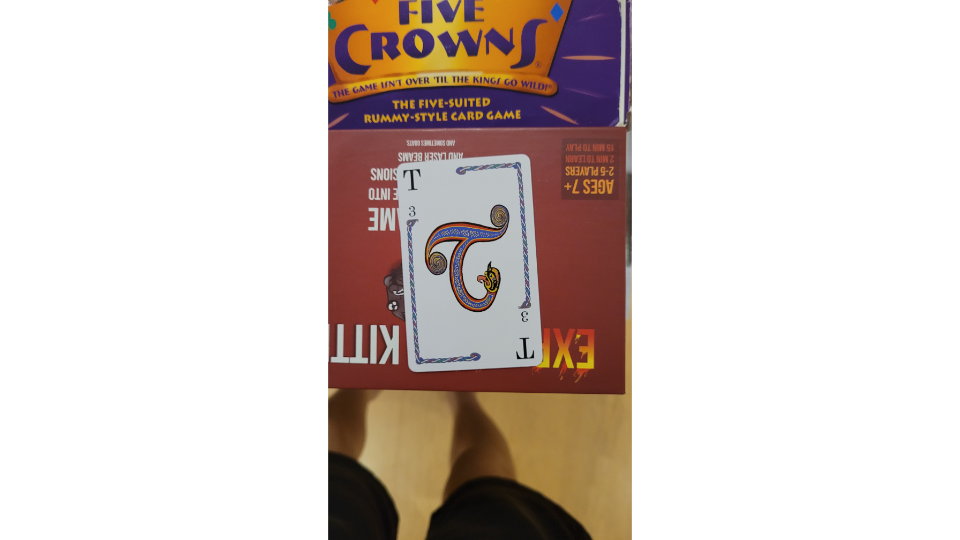T: (394, 151, 548, 374)
